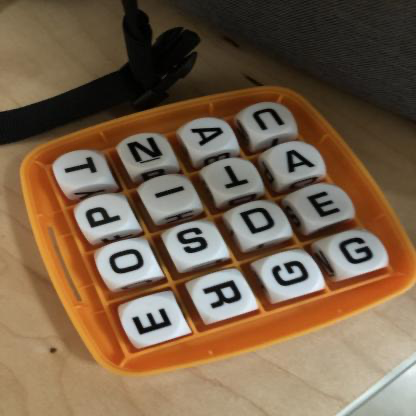a: (269, 141, 323, 178), (186, 118, 233, 152)
d: (234, 201, 287, 238)
e: (122, 296, 182, 341), (294, 184, 352, 224)
g: (326, 229, 385, 275), (261, 251, 320, 295)
i: (144, 175, 197, 213)
n: (121, 134, 172, 169)
o: (97, 241, 156, 282)
p: (77, 196, 131, 234)
r: (194, 269, 251, 315)
s: (170, 221, 224, 263)
t: (208, 158, 260, 195), (57, 151, 107, 187)
u: (244, 103, 295, 136)
